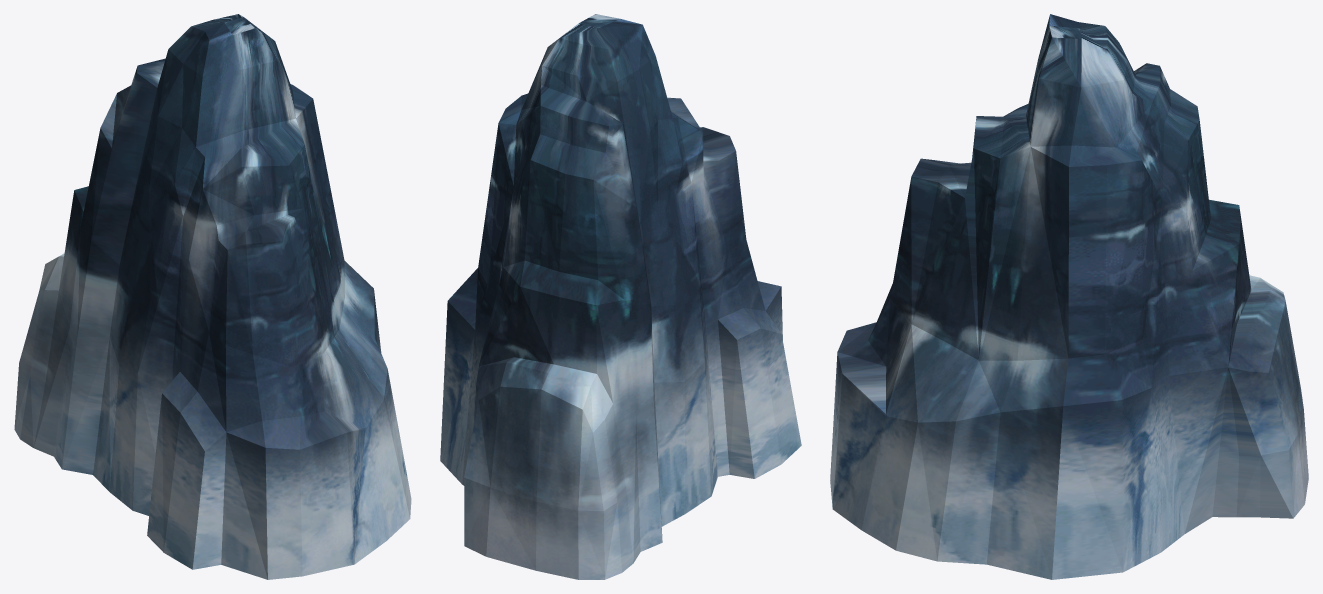
File: Ice_stone09.FBX
3 views of the same model, side by side, from view 1: azimuth 30°, elevation 25°; view 2: azimuth 150°, elevation 25°; view 3: azimuth 270°, elevation 25° (orthographic). The views are drawn at different scales.
Parts seen in each view (by area): view 1: Object15619; view 2: Object15619; view 3: Object15619.
Part boxes in pixels (x1,y1,x2,y2): Object15619: [14, 14, 411, 579]; Object15619: [440, 14, 801, 579]; Object15619: [830, 14, 1308, 579].
Size of the model in its own units: 259 by 410 by 374.
